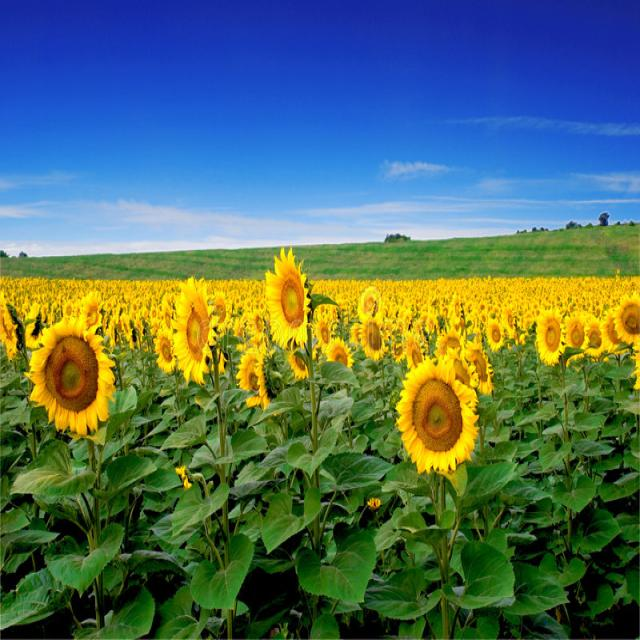sunflower: (22, 308, 128, 440), (389, 346, 482, 483), (251, 238, 313, 348), (166, 268, 223, 386), (534, 298, 570, 370), (354, 304, 383, 366), (614, 281, 640, 349), (481, 310, 508, 352)
